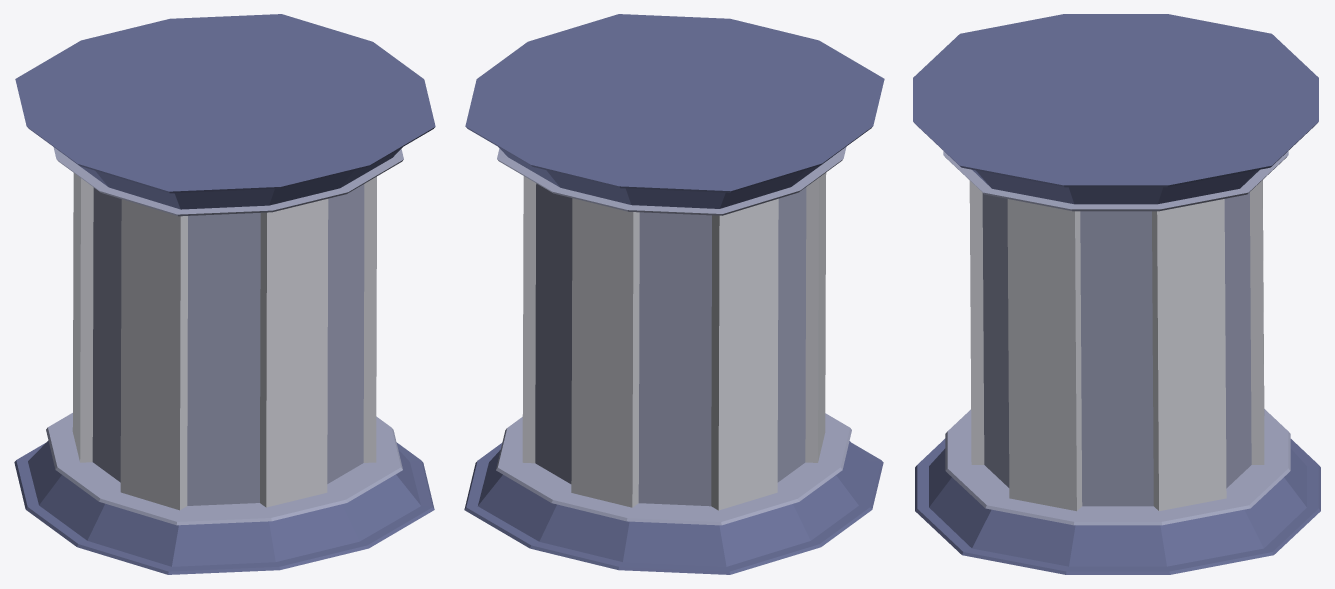
Rendered from pillar-sml.fbx.
The picture shows the model from 3 angles, left to right: view 1: azimuth 30°, elevation 25°; view 2: azimuth 150°, elevation 25°; view 3: azimuth 270°, elevation 25°; orthographic projection.
Parts seen in each view (by area): view 1: Cube; view 2: Cube; view 3: Cube.
Part boxes in pixels (box(x1,y1,x2,y2)): Cube: box(14, 14, 435, 574); Cube: box(464, 14, 884, 574); Cube: box(913, 14, 1320, 574).
Bounding box in the file's own units: 260 × 275 × 261.
